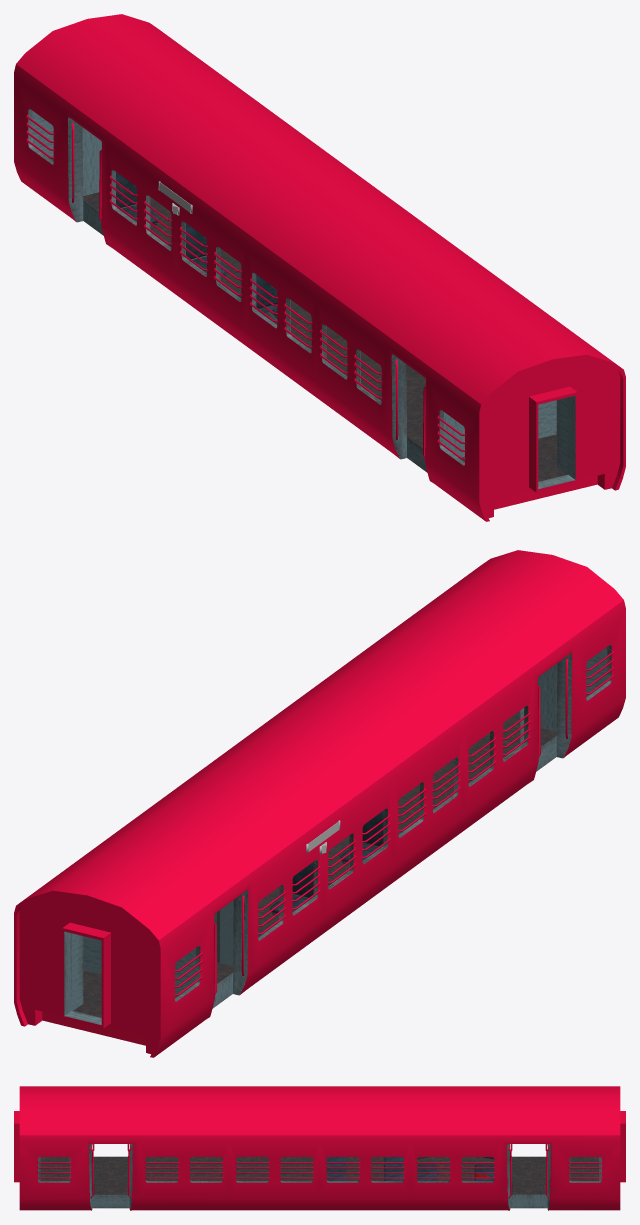
The model's file is train-compartment.glb.
3 renders of one model, top to bottom at view 1: azimuth 30°, elevation 25°; view 2: azimuth 150°, elevation 25°; view 3: azimuth 270°, elevation 25°, orthographic. The views are drawn at different scales.
Parts seen in each view (by area): view 1: Train_Prefab__1__Variant, Seats2, Seats1; view 2: Train_Prefab__1__Variant, Wall, Seats2, Seats1; view 3: Train_Prefab__1__Variant, Seats2, Seats1.
Boxes of the visible parts, bbox=[...] form: Train_Prefab__1__Variant: bbox=[14, 14, 625, 521]; Seats2: bbox=[186, 223, 277, 320]; Seats1: bbox=[116, 172, 171, 247]; Train_Prefab__1__Variant: bbox=[14, 550, 625, 1057]; Wall: bbox=[217, 900, 233, 966]; Seats2: bbox=[328, 810, 383, 885]; Seats1: bbox=[258, 862, 313, 937]; Train_Prefab__1__Variant: bbox=[14, 1086, 625, 1210]; Seats2: bbox=[326, 1157, 403, 1181]; Seats1: bbox=[417, 1157, 494, 1181].
Size of the model in its own units: 4.29 by 3.93 by 23.04.
6 materials, 5 textured.
